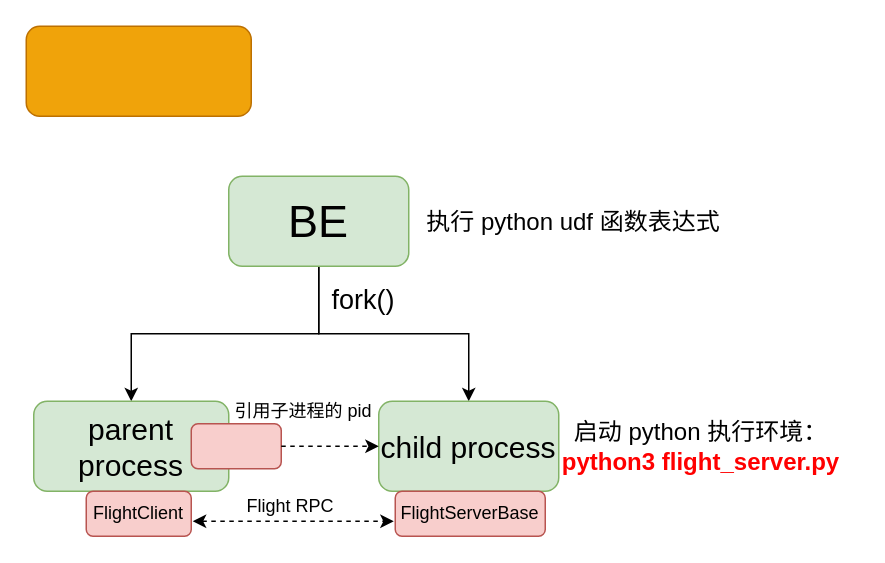
Some shapes in this 885 by 563 pixel diagram are drawn without their labels. Here are the shapes that lost their labels. From the top down, the box of each, then its label:
(25, 25, 251, 116): python udf 执行环境的关系图
(190, 422, 281, 469): PyWorker
